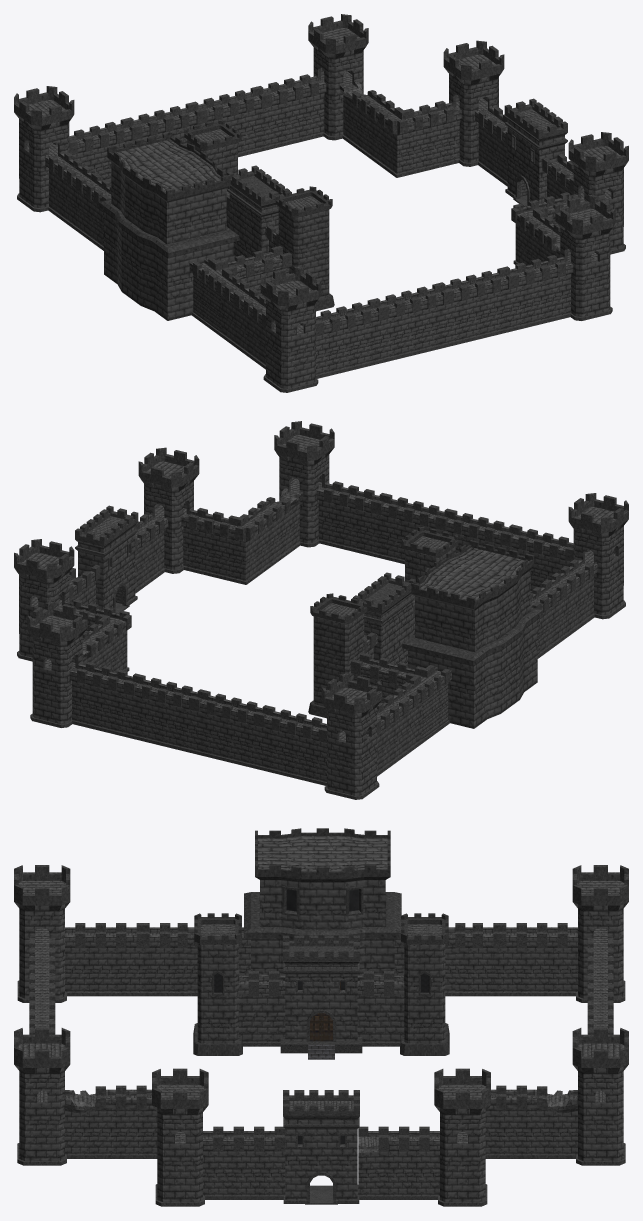
The model's file is Castle.fbx.
3 renders of one model, top to bottom at view 1: azimuth 30°, elevation 25°; view 2: azimuth 150°, elevation 25°; view 3: azimuth 270°, elevation 25°, orthographic. The views are drawn at different scales.
Visible parts, largest first — view 1: Side Walls.002, Castle Back, Tower Type A.002, Broken Wall 2.001, Tower Type A.001, Tower Type A, Back Walls, Tower Type B, Castle Gate, Wall Area, Castle Entrance, Broken Wall A (+1 smaller); view 2: Side Walls.002, Castle Back, Tower Type A.002, Broken Wall 2.001, Tower Type A.001, Tower Type A, Back Walls, Tower Type B, Castle Gate, Wall Area, Castle Entrance, Wall A (+1 smaller); view 3: Back Walls, Castle Back, Tower Type A.001, Tower Type A, Broken Wall 2.001, Tower Type B, Tower Type A.002, Castle Gate, Castle Entrance, Wall Area.001, Wall A, Broken Wall A (+3 smaller).
Part boxes in pixels (x1,y1,x2,y2): Side Walls.002: (69,74,573,378); Castle Back: (98,132,239,320); Tower Type A.002: (14,86,321,392); Broken Wall 2.001: (339,81,585,265); Tower Type A.001: (308,14,615,320); Tower Type A: (443,40,628,254); Back Walls: (45,152,265,369); Tower Type B: (184,119,334,311); Castle Gate: (504,98,567,206); Wall Area: (99,195,291,335); Castle Entrance: (227,165,289,257); Broken Wall A: (475,107,507,186); Side Walls.002: (69,481,573,785); Castle Back: (402,540,542,728); Tower Type A.002: (321,493,628,799); Broken Wall 2.001: (57,488,303,672); Tower Type A.001: (27,421,334,727); Tower Type A: (14,447,199,661); Back Walls: (377,559,597,776); Tower Type B: (308,526,458,718); Castle Gate: (75,505,138,613); Wall Area: (351,602,543,742); Castle Entrance: (353,572,415,664); Wall A: (135,514,167,593); Back Walls: (65,923,577,996); Castle Back: (244,828,401,975); Tower Type A.001: (14,1027,628,1165); Tower Type A: (152,1068,490,1206); Broken Wall 2.001: (65,1085,577,1158); Tower Type B: (193,913,449,1055); Tower Type A.002: (14,865,628,1002); Castle Gate: (283,1090,359,1204); Castle Entrance: (283,935,359,1041); Wall Area.001: (238,971,404,1046); Wall A: (203,1126,285,1199); Broken Wall A: (358,1126,439,1199).
Size of the model in its own units: 1553 by 449 by 1705.
